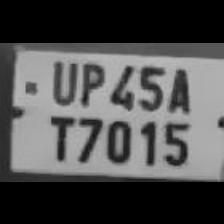0: (101, 113, 133, 164)
1: (134, 114, 158, 166)
4: (104, 57, 136, 109)
5: (156, 116, 192, 164), (133, 58, 165, 110)
7: (71, 109, 101, 163)
A: (163, 62, 193, 113)
P: (75, 56, 105, 106)
T: (42, 110, 75, 162)
U: (46, 56, 78, 104)
